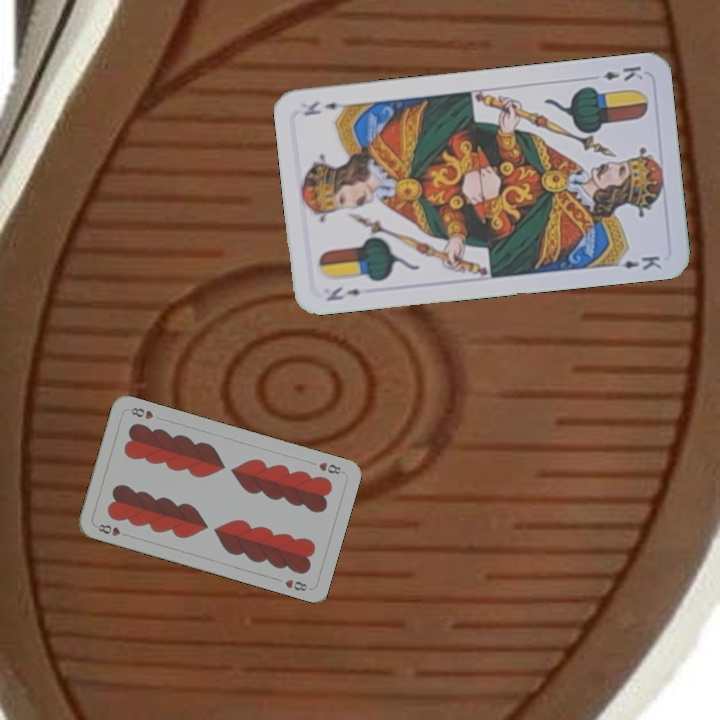EK: (599, 62, 646, 83), (322, 282, 363, 304)
H8: (94, 520, 131, 539), (315, 458, 346, 477)
